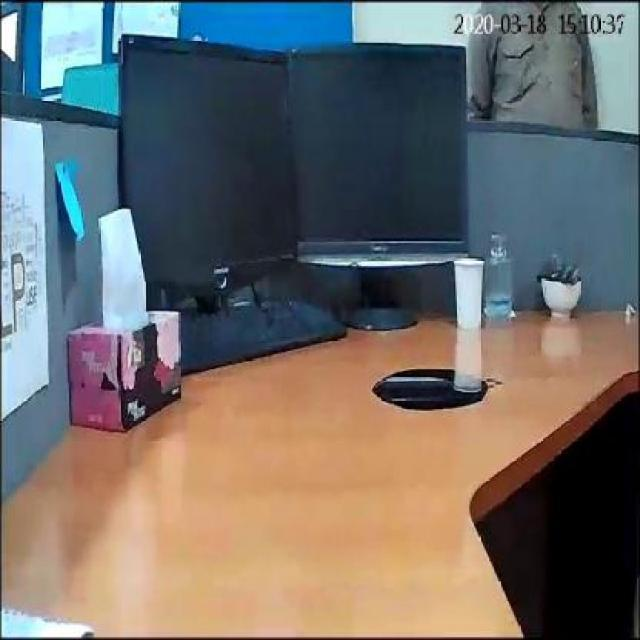spill: (364, 362, 490, 420)
